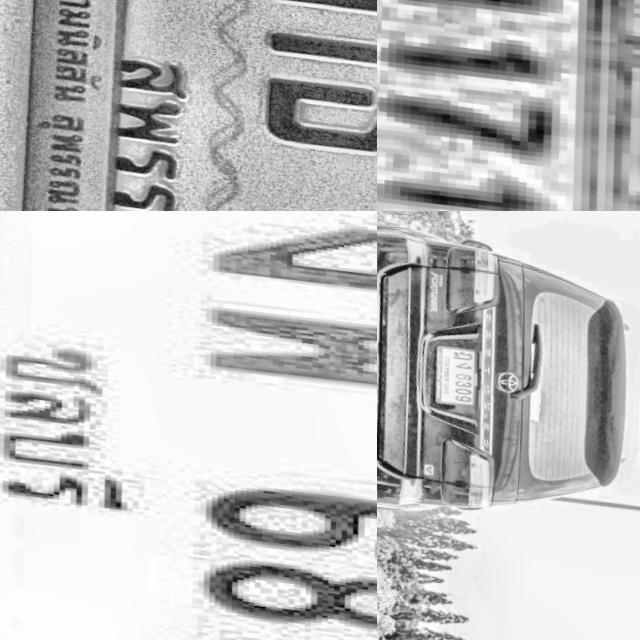license-plate: (0, 211, 377, 640), (0, 0, 377, 211), (377, 0, 640, 211), (422, 348, 473, 409)
